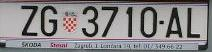-: (159, 20, 164, 24)
0: (140, 7, 157, 38)
1: (127, 7, 133, 38)
3: (82, 6, 98, 37)
7: (102, 6, 118, 37)
A: (166, 7, 183, 38)
G: (41, 5, 57, 36)
L: (187, 8, 200, 38)
Z: (21, 6, 37, 36)
